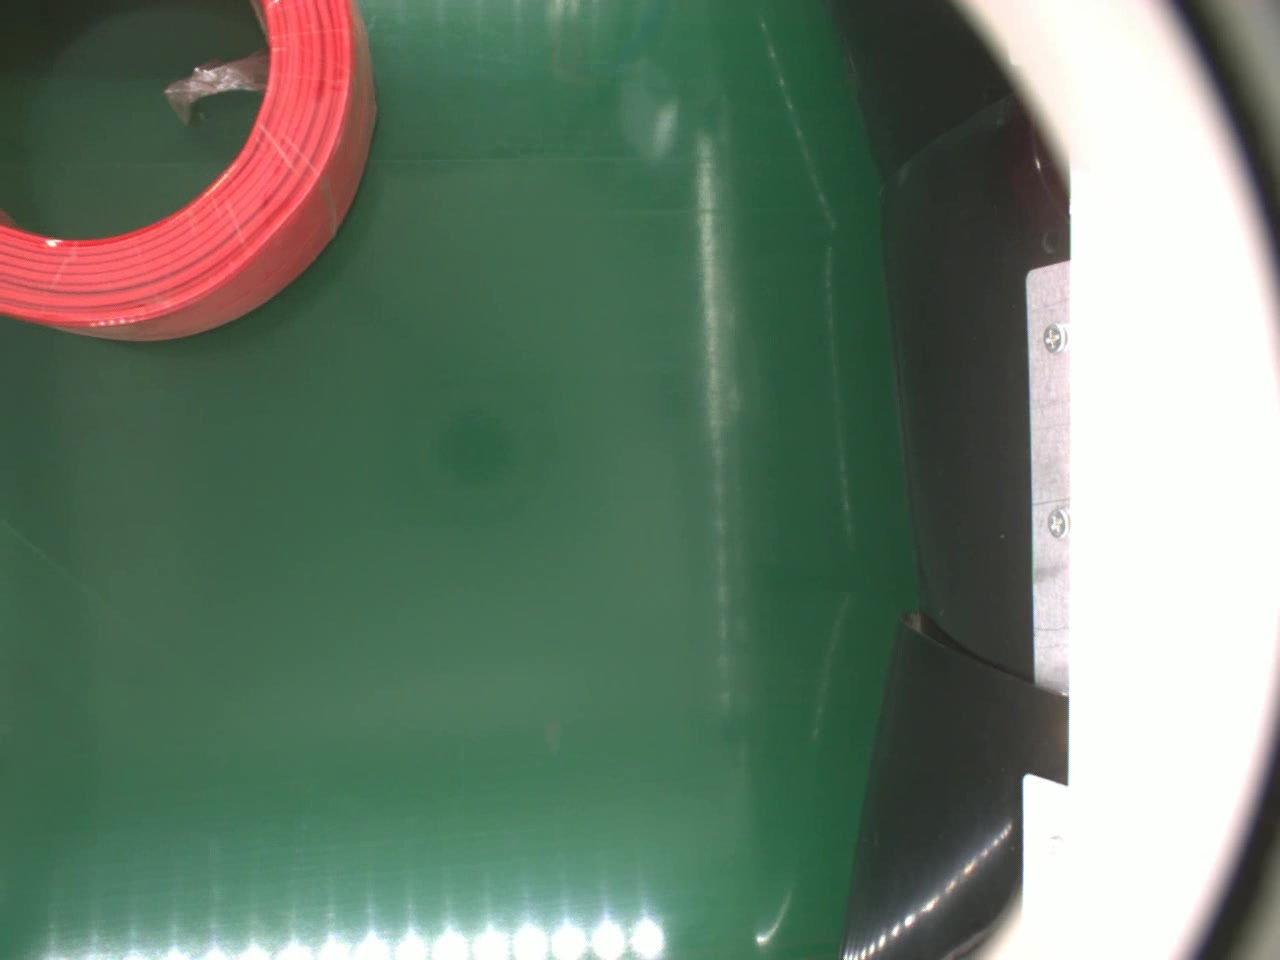red: (0, 0, 376, 342)
